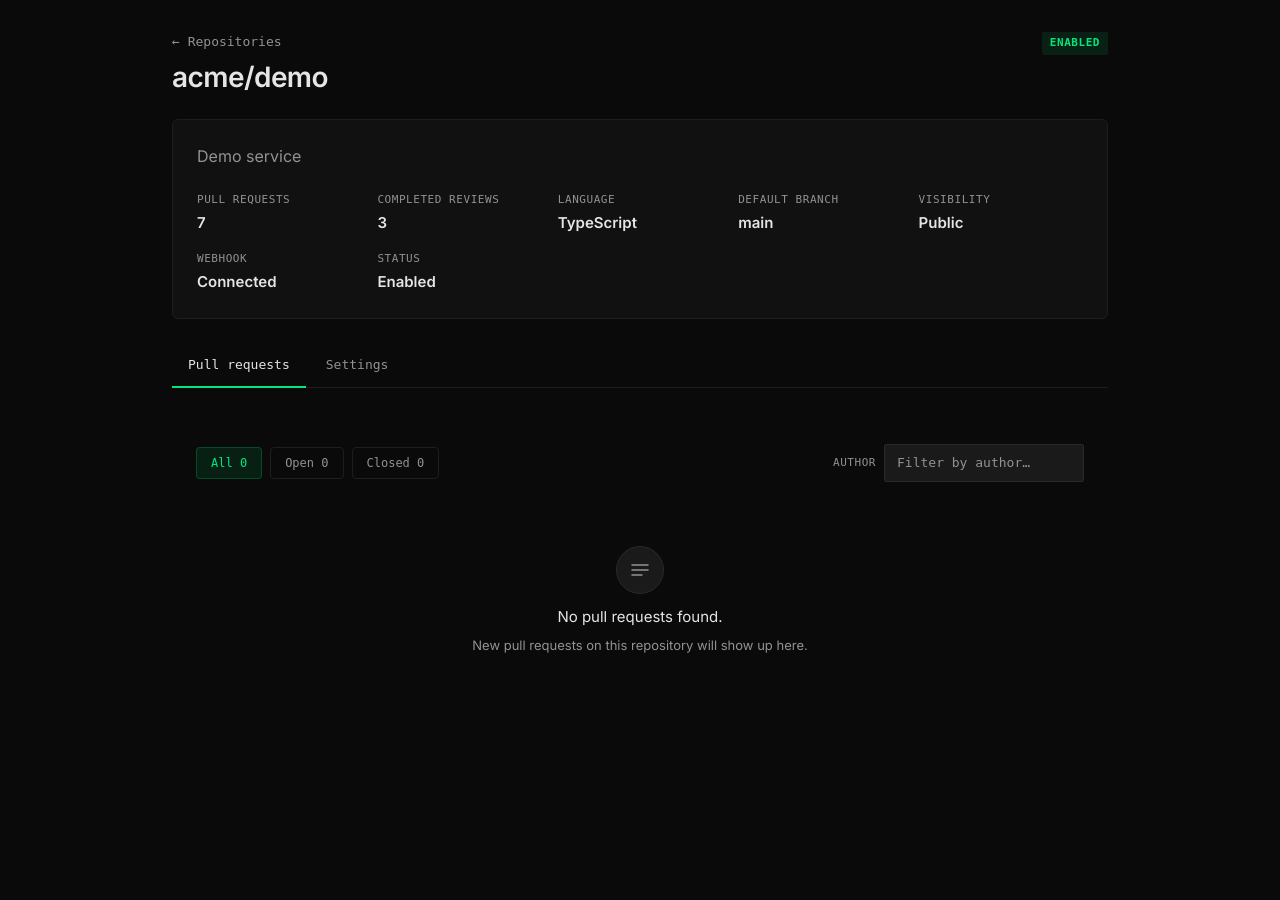
Test: RepositoryDetailComponent — detail header, tabs and guarded mutations (plan Step 6) › renders ARIA tabs: PR list embedded by default, Settings on click
Expected: the element that starts with "All" is shown, [172,412,1108,736]
What coordinates should you click on to do the following:
click the tab with test id "tab-settings"
I would click on:
 (357, 365)
Its box is [310,342,404,388].
(page scrolled)
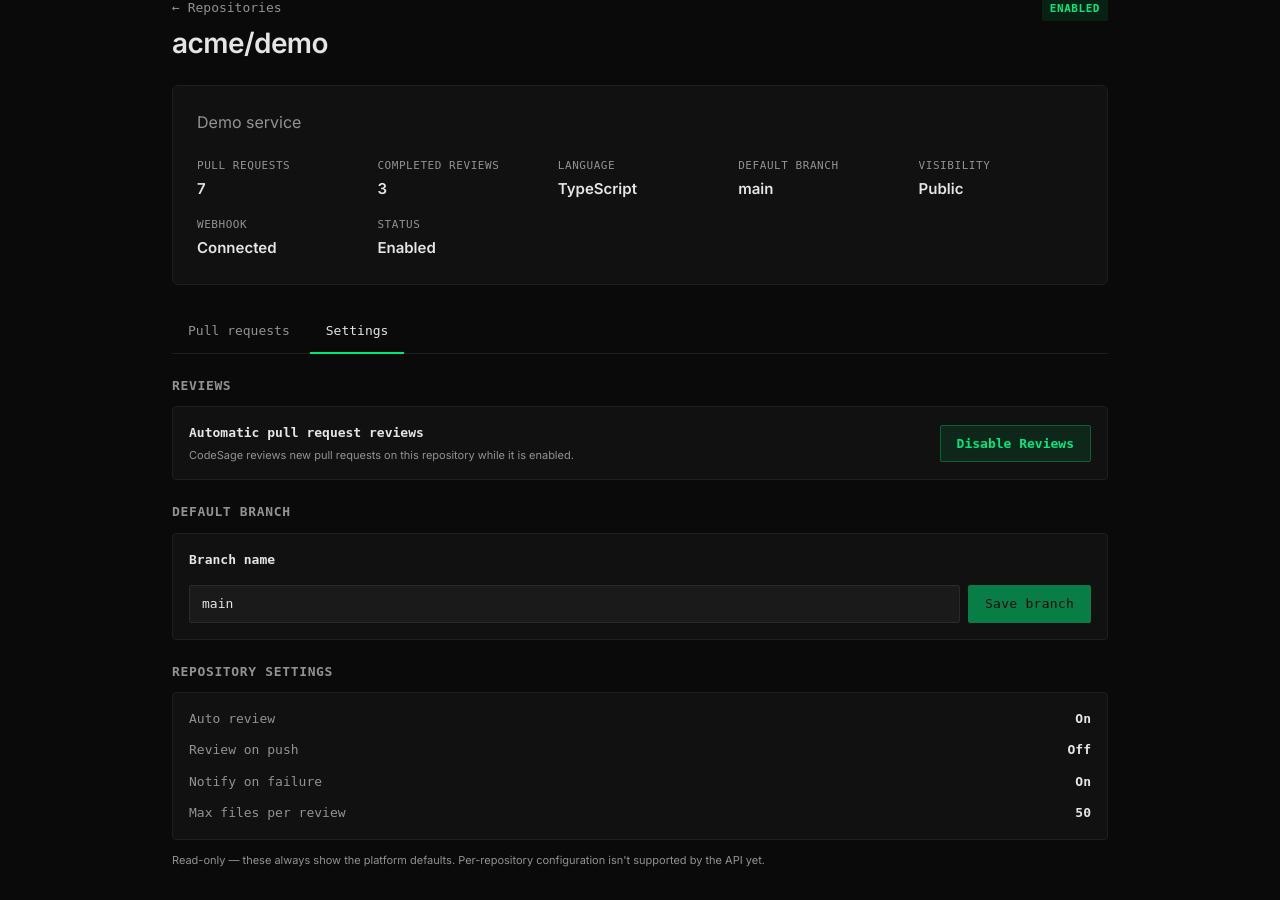
Now the panel with test id "panel-settings" is shown, box [172,378,1108,868]
Now the panel with test id "panel-prs" is gone
